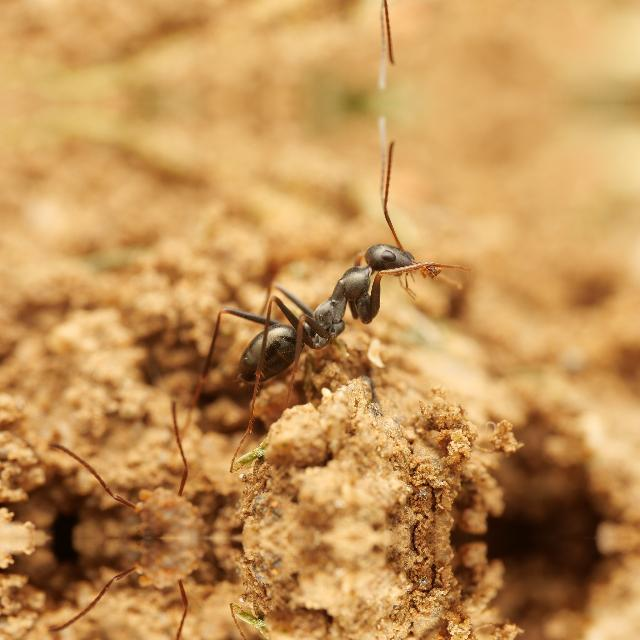Cataglyphis: (198, 207, 467, 395)
